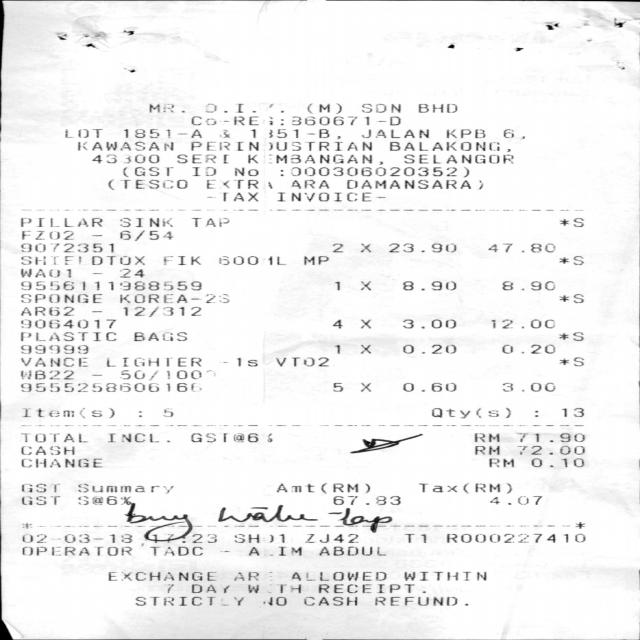text: (280, 166, 468, 178), (191, 116, 400, 126), (17, 382, 200, 393), (189, 141, 371, 151), (19, 280, 200, 290), (445, 533, 584, 543), (346, 179, 482, 189), (389, 141, 509, 152), (267, 154, 382, 165), (20, 255, 143, 265), (20, 534, 133, 544), (403, 154, 512, 164), (22, 546, 131, 556), (134, 596, 242, 606), (277, 192, 384, 202), (108, 571, 215, 581), (276, 483, 368, 494), (418, 483, 510, 494), (119, 294, 228, 303), (250, 128, 339, 139), (317, 584, 424, 593), (76, 141, 172, 151), (76, 483, 172, 493), (20, 332, 115, 342), (290, 571, 385, 581), (430, 407, 509, 419), (106, 357, 200, 367), (119, 370, 210, 380), (22, 408, 113, 418), (107, 179, 186, 190), (15, 217, 101, 227), (123, 306, 200, 317), (20, 319, 114, 328), (374, 596, 458, 606), (20, 243, 112, 252), (189, 432, 271, 442), (403, 571, 485, 581), (20, 293, 101, 303), (20, 458, 101, 468), (205, 103, 282, 113), (123, 128, 200, 138), (19, 344, 87, 354), (516, 445, 584, 455), (317, 546, 385, 556), (332, 495, 399, 505), (206, 179, 272, 189), (218, 255, 284, 265), (488, 319, 554, 329), (20, 357, 86, 367), (149, 533, 215, 543), (402, 319, 459, 330), (90, 154, 158, 163), (516, 433, 584, 442), (361, 129, 428, 138), (388, 243, 455, 252), (487, 243, 554, 252), (20, 433, 86, 442), (119, 230, 172, 241), (106, 433, 169, 442), (399, 344, 455, 354), (18, 230, 72, 240), (500, 280, 554, 290), (18, 306, 72, 316), (500, 344, 554, 354), (274, 357, 328, 367), (303, 596, 357, 606), (175, 154, 228, 164), (402, 280, 455, 290), (133, 332, 186, 342), (501, 382, 554, 392), (402, 382, 455, 392), (20, 445, 73, 455), (530, 458, 583, 468), (304, 533, 357, 543), (148, 546, 201, 556), (247, 546, 300, 556), (18, 268, 70, 278), (488, 495, 540, 505), (206, 192, 257, 202), (120, 217, 171, 227), (122, 167, 172, 177), (233, 533, 283, 543), (19, 370, 73, 379), (247, 584, 300, 593), (77, 495, 121, 505), (263, 254, 289, 270), (334, 344, 374, 354), (418, 103, 457, 113), (445, 128, 484, 138), (306, 103, 341, 114), (162, 255, 200, 265), (20, 483, 58, 493), (64, 128, 101, 138), (290, 179, 327, 189), (191, 217, 228, 227), (333, 382, 369, 392), (20, 496, 59, 505), (332, 243, 370, 252), (222, 357, 256, 367), (191, 584, 228, 593), (334, 281, 370, 290), (361, 104, 400, 112), (332, 320, 370, 328), (233, 572, 271, 580), (147, 104, 184, 112), (302, 255, 328, 265), (487, 458, 513, 468), (558, 217, 582, 227), (119, 268, 143, 278), (262, 596, 286, 606), (557, 332, 583, 341), (475, 445, 498, 455), (473, 433, 498, 442), (560, 407, 582, 417), (403, 533, 425, 543), (190, 167, 214, 176), (233, 167, 257, 176), (558, 256, 582, 265), (558, 294, 582, 303), (558, 357, 582, 366), (502, 128, 516, 138), (247, 154, 257, 163), (162, 408, 172, 417), (166, 584, 172, 593), (223, 129, 228, 138), (138, 411, 140, 417), (224, 551, 228, 552)
